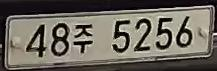2: (133, 15, 153, 54)
4: (24, 22, 50, 61)
5: (110, 17, 133, 55), (153, 15, 175, 53)
6: (175, 14, 194, 49)
8: (50, 20, 71, 59)
주: (71, 20, 96, 58)
